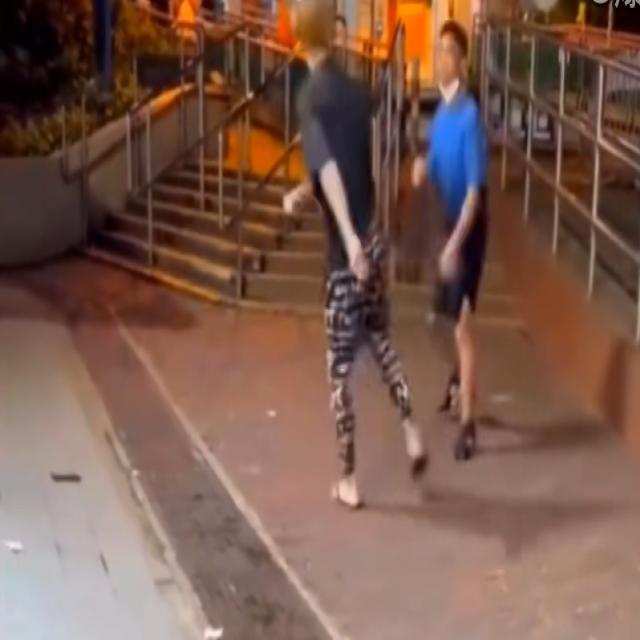nofight: (281, 5, 431, 512), (412, 19, 498, 465)
